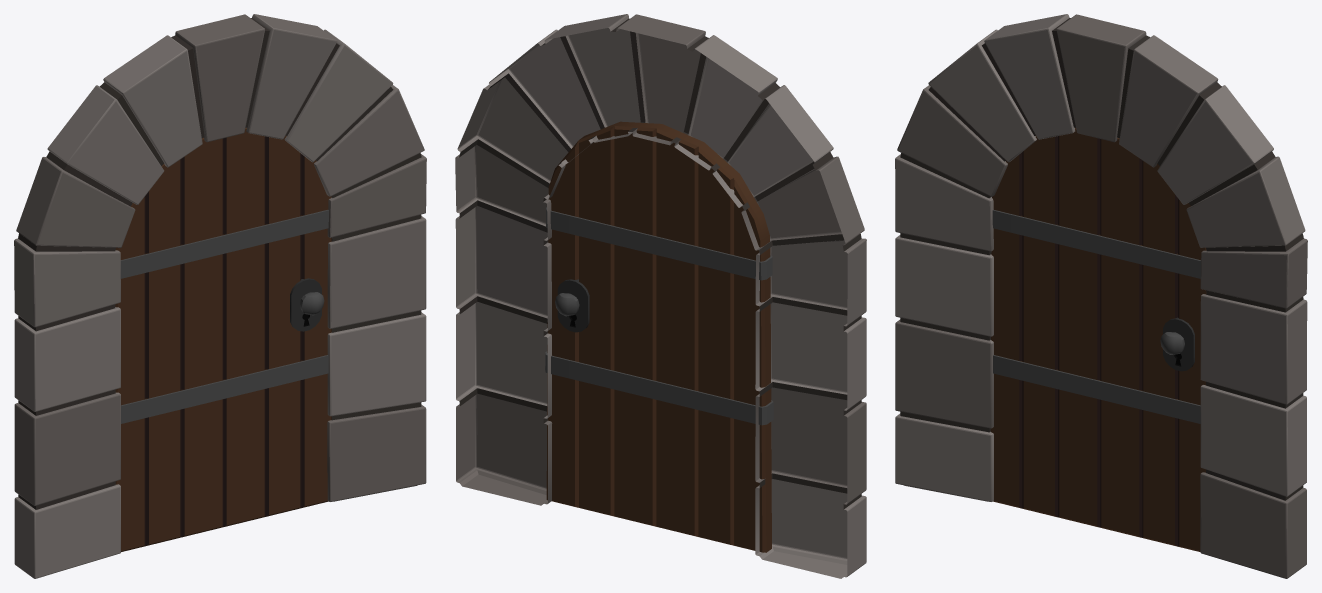
File: Door ish.fbx
3 renders of one model, left to right at view 1: azimuth 30°, elevation 25°; view 2: azimuth 150°, elevation 25°; view 3: azimuth 330°, elevation 25°, orthographic.
Parts seen in each view (by area): view 1: Circle, Circle.001; view 2: Circle, Circle.001; view 3: Circle, Circle.001.
Part boxes in pixels (<box>): Circle: <box>14,14,426,578</box>; Circle.001: <box>115,127,331,551</box>; Circle: <box>455,14,866,578</box>; Circle.001: <box>545,121,773,552</box>; Circle: <box>895,14,1307,578</box>; Circle.001: <box>990,127,1206,551</box>.
Size of the model in its own units: 3.34 by 4.03 by 0.4765.
